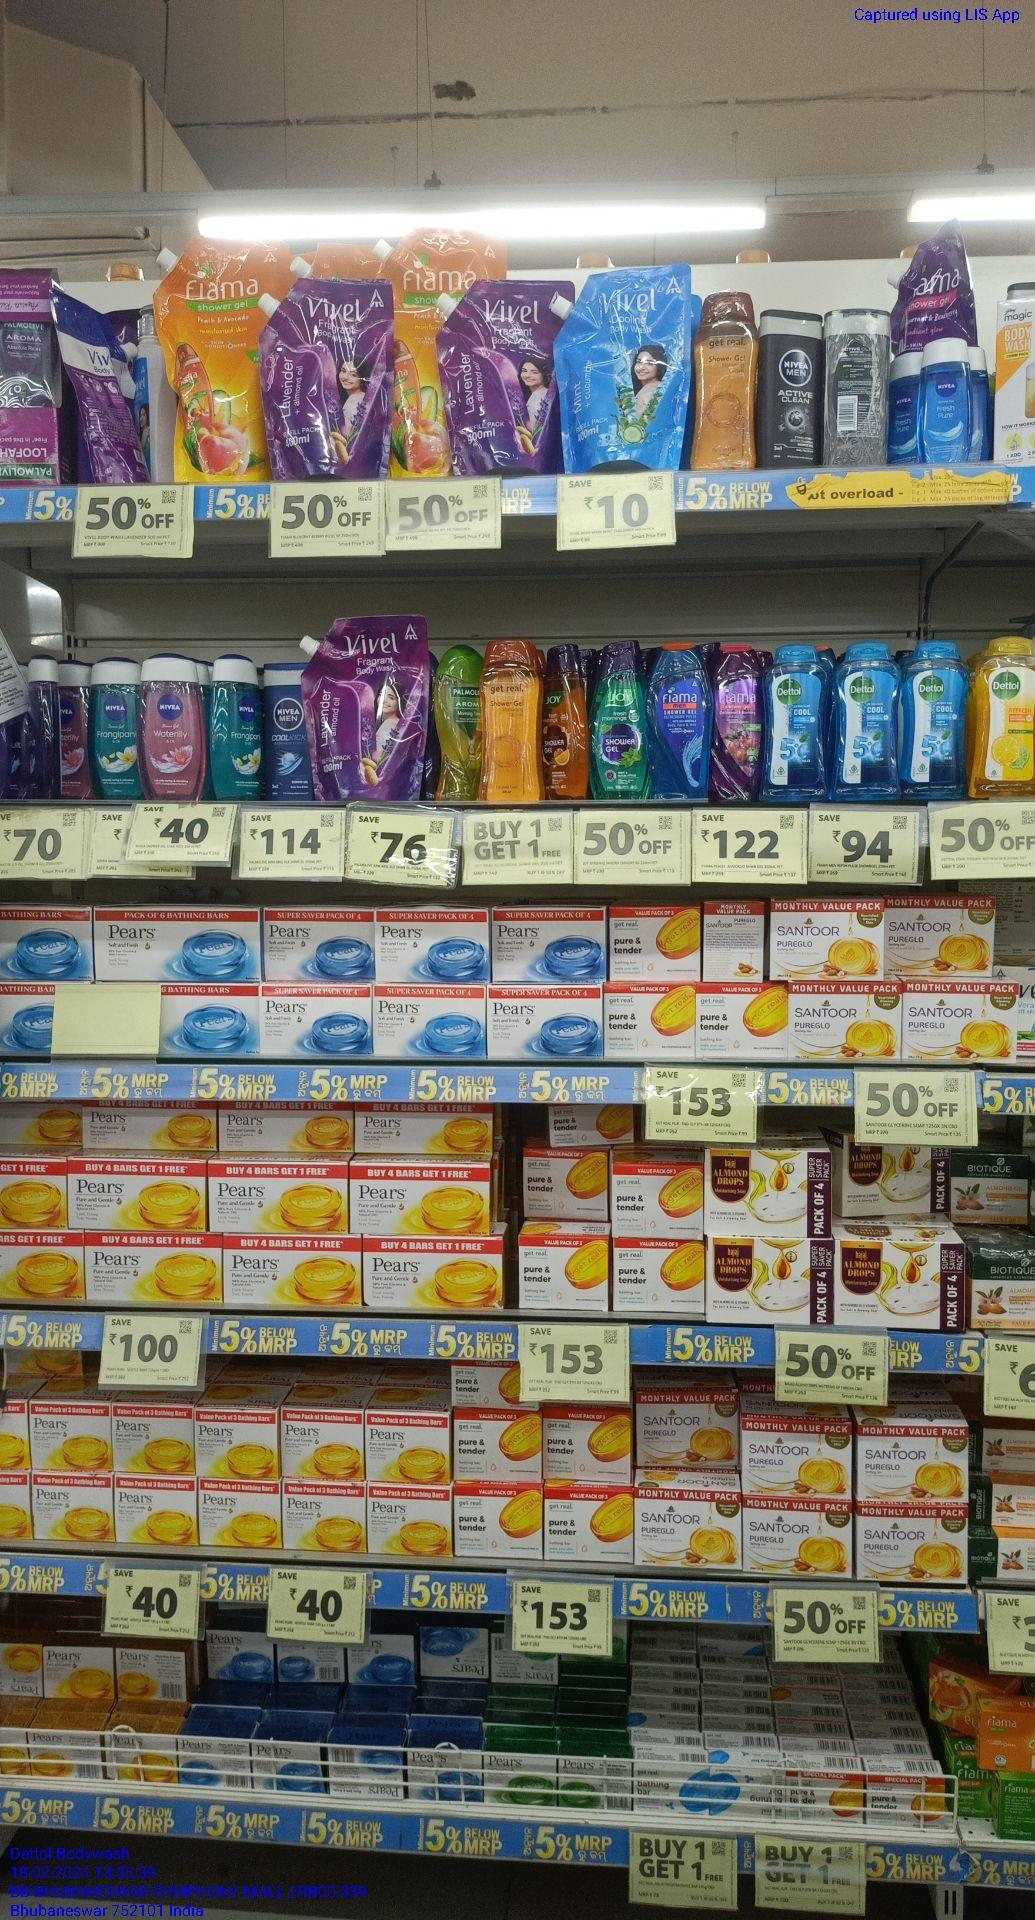Dettol_Bodywash_Cool: (829, 636, 897, 801), (758, 645, 827, 801), (905, 645, 967, 798)
Dettol_Bodywash_Refresh: (974, 636, 1035, 795)
Get_Real_Shower_Gel_Moisturising_Glycerin_300ML: (687, 292, 760, 475), (484, 641, 544, 805)
Joy_Shower_Gel_Mandarin_and_Lemongrass_250ML: (547, 638, 594, 800)
Joy_Shower_Gel_Mint_and_Eucalyptus_250ML: (593, 638, 646, 800)
Nivea_Shower_Gel_Frangipani_and_Oil_250ML: (212, 648, 263, 796), (92, 656, 139, 799)
Nivea_Shower_Gel_Waterlily_and_Oil_250ML: (141, 655, 203, 803)
Palmolive_Aroma_Morning_Tonic_Shower_Gel_250ML: (431, 641, 484, 803)
